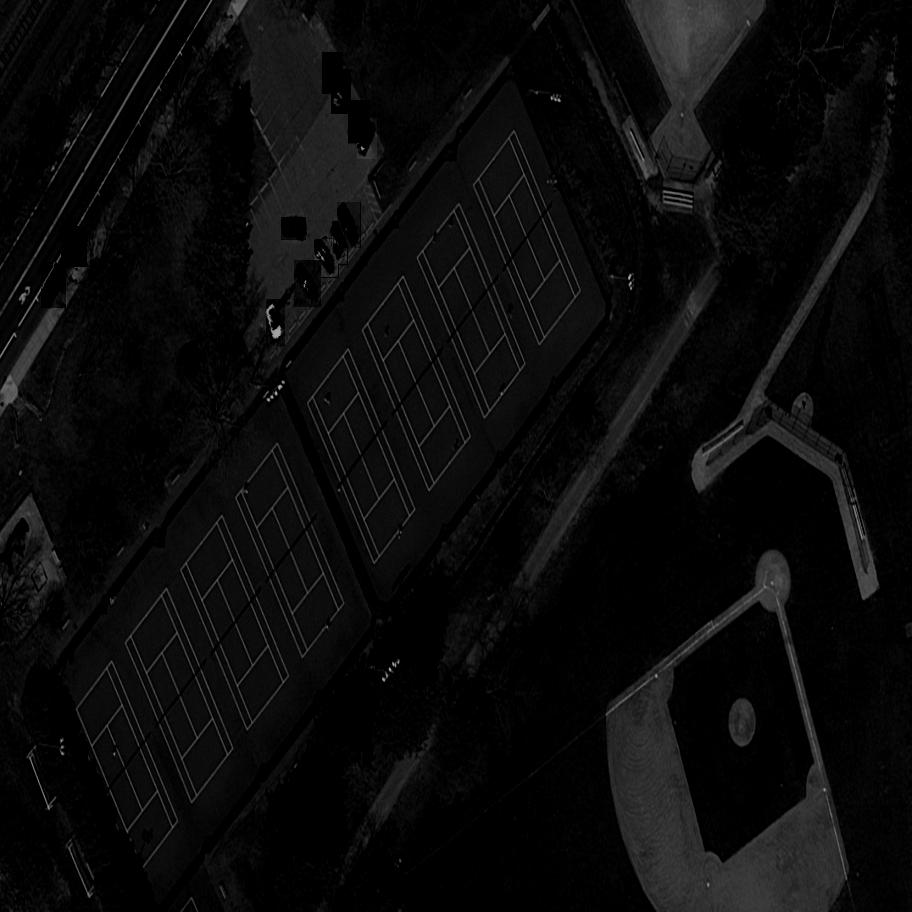small-vehicle: (288, 260, 326, 308), (38, 263, 71, 308), (334, 202, 364, 249), (58, 227, 93, 267), (312, 239, 342, 278), (346, 101, 373, 144), (320, 53, 348, 94), (329, 69, 354, 114), (355, 118, 381, 160), (265, 300, 288, 346), (332, 221, 350, 264), (282, 218, 306, 240)
